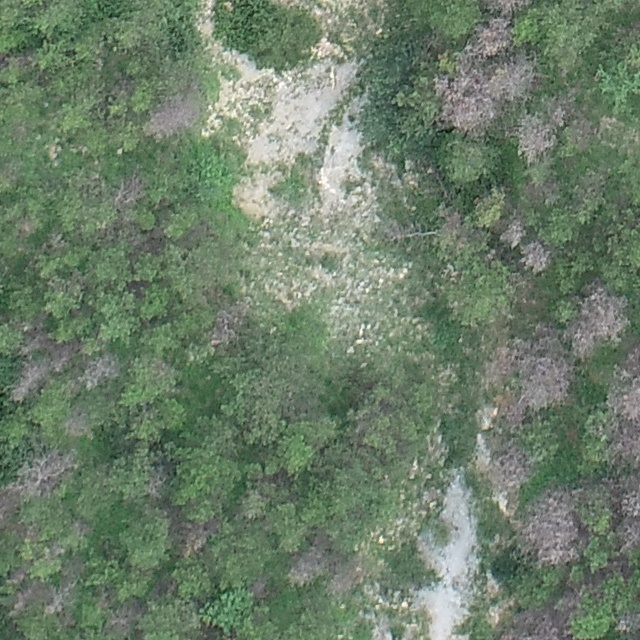unhealthy: (511, 487, 582, 567), (570, 285, 631, 354), (15, 312, 81, 372), (435, 73, 495, 133), (514, 354, 571, 413), (10, 450, 80, 498), (145, 85, 204, 140), (208, 292, 255, 348), (287, 529, 332, 586), (603, 361, 640, 424), (489, 58, 540, 103), (514, 112, 558, 160), (483, 334, 526, 381), (9, 354, 49, 404), (490, 442, 527, 494), (331, 554, 369, 602), (180, 520, 221, 561), (76, 354, 121, 390), (45, 569, 79, 616), (476, 14, 513, 57), (102, 597, 145, 633), (8, 574, 42, 617), (383, 221, 437, 248), (544, 87, 578, 126), (610, 427, 640, 468), (61, 406, 96, 441), (495, 390, 528, 427), (574, 168, 607, 203), (48, 270, 85, 298), (536, 320, 567, 353), (522, 241, 552, 275), (117, 173, 148, 205), (529, 176, 562, 206), (525, 614, 559, 640), (506, 271, 533, 302), (570, 120, 595, 153), (482, 0, 532, 16), (498, 217, 523, 249), (618, 519, 640, 555), (142, 465, 165, 498), (554, 589, 583, 614), (619, 488, 640, 520), (41, 232, 66, 257), (247, 577, 271, 600), (444, 210, 462, 238), (18, 215, 38, 236), (615, 613, 632, 633)
